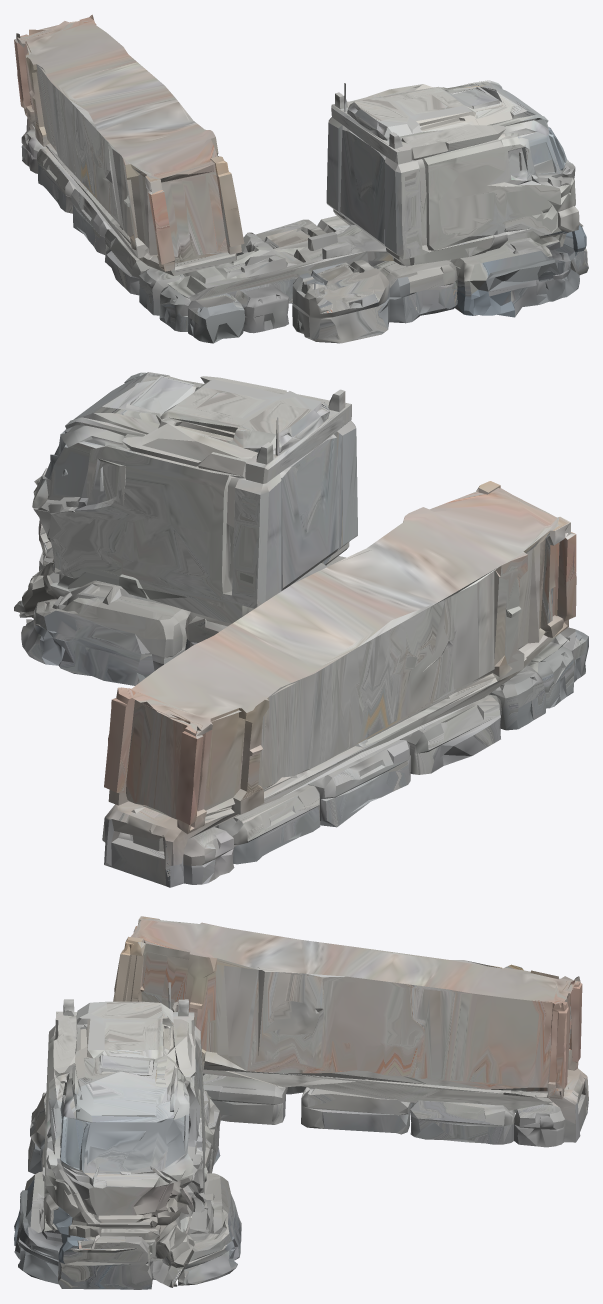
3 renders of one model, top to bottom at view 1: azimuth 30°, elevation 25°; view 2: azimuth 150°, elevation 25°; view 3: azimuth 270°, elevation 25°, orthographic. The views are drawn at different scales.
Visible parts, largest first — view 1: k06; view 2: k06; view 3: k06.
Boxes of the visible parts, bbox=[...] form: k06: bbox=[14, 14, 588, 343]; k06: bbox=[14, 372, 588, 887]; k06: bbox=[14, 916, 588, 1289].
Size of the model in its own units: 16.78 by 8 by 19.44.
1 material, 1 textured.
